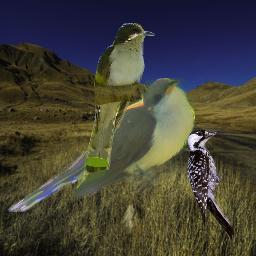Cuckoo: (6, 78, 195, 212), (83, 23, 155, 184)
Woodpecker: (186, 129, 234, 241)
